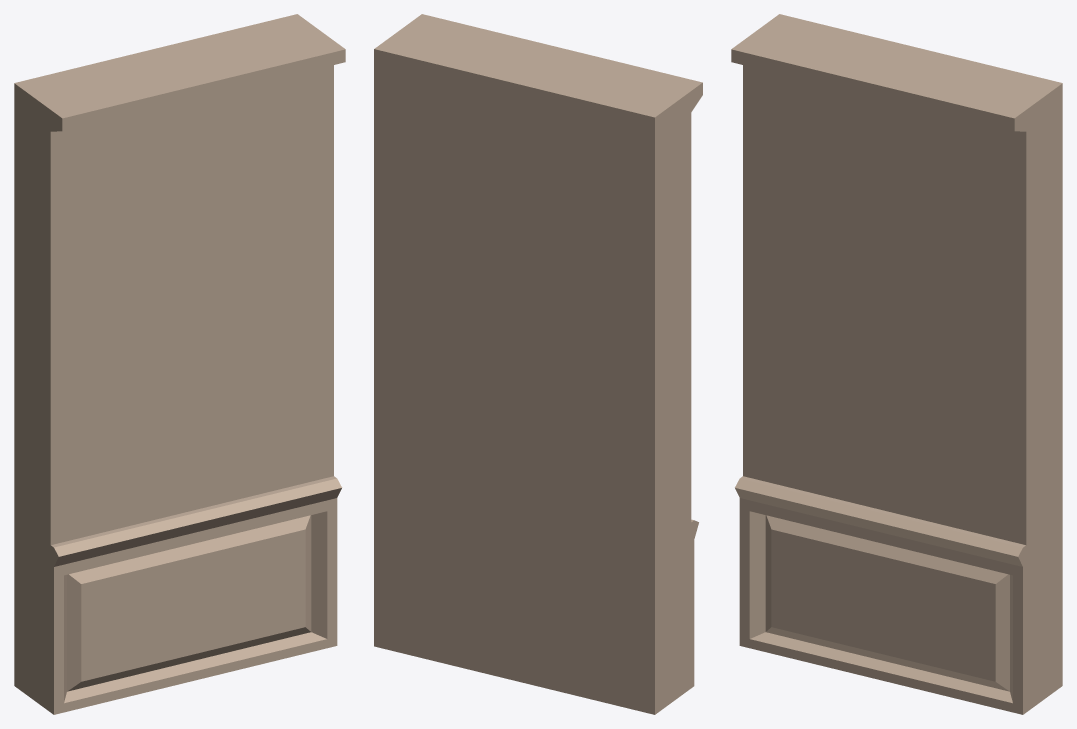
File: F_bossromm_well.fbx
3 views of the same model, side by side, from view 1: azimuth 30°, elevation 25°; view 2: azimuth 150°, elevation 25°; view 3: azimuth 330°, elevation 25° (orthographic).
Visible parts, largest first — view 1: boss_wall; view 2: boss_wall; view 3: boss_wall.
Part boxes in pixels (x1,y1,x2,y2): boss_wall: (14, 14, 345, 714); boss_wall: (374, 14, 702, 714); boss_wall: (731, 14, 1062, 714).
Size of the model in its own units: 113 by 230 by 33.35.
